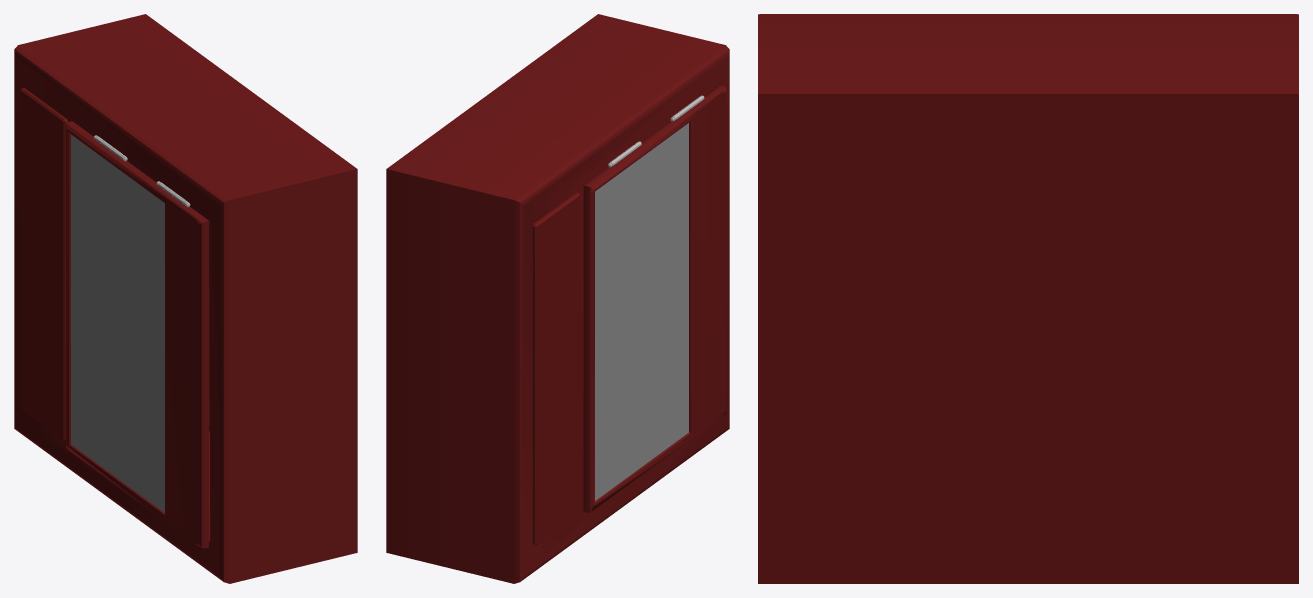
The model's file is fire safety .fbx.
3 renders of one model, left to right at view 1: azimuth 30°, elevation 25°; view 2: azimuth 150°, elevation 25°; view 3: azimuth 270°, elevation 25°, orthographic. The views are drawn at different scales.
Visible parts, largest first — view 1: pCube306; view 2: pCube306; view 3: pCube306.
Part boxes in pixels (bbox=[...]): pCube306: bbox=[14, 14, 357, 583]; pCube306: bbox=[386, 14, 729, 583]; pCube306: bbox=[758, 14, 1298, 583].
Size of the model in its own units: 46.33 by 119 by 119.
